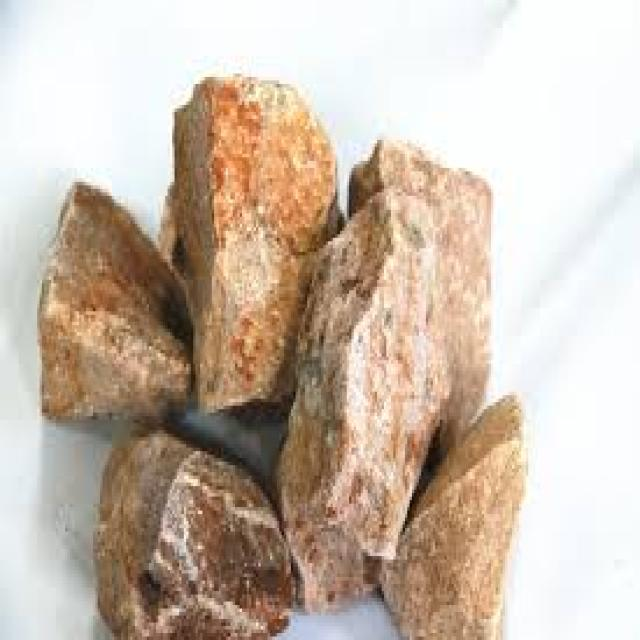Metamorphic: (26, 73, 533, 630)
